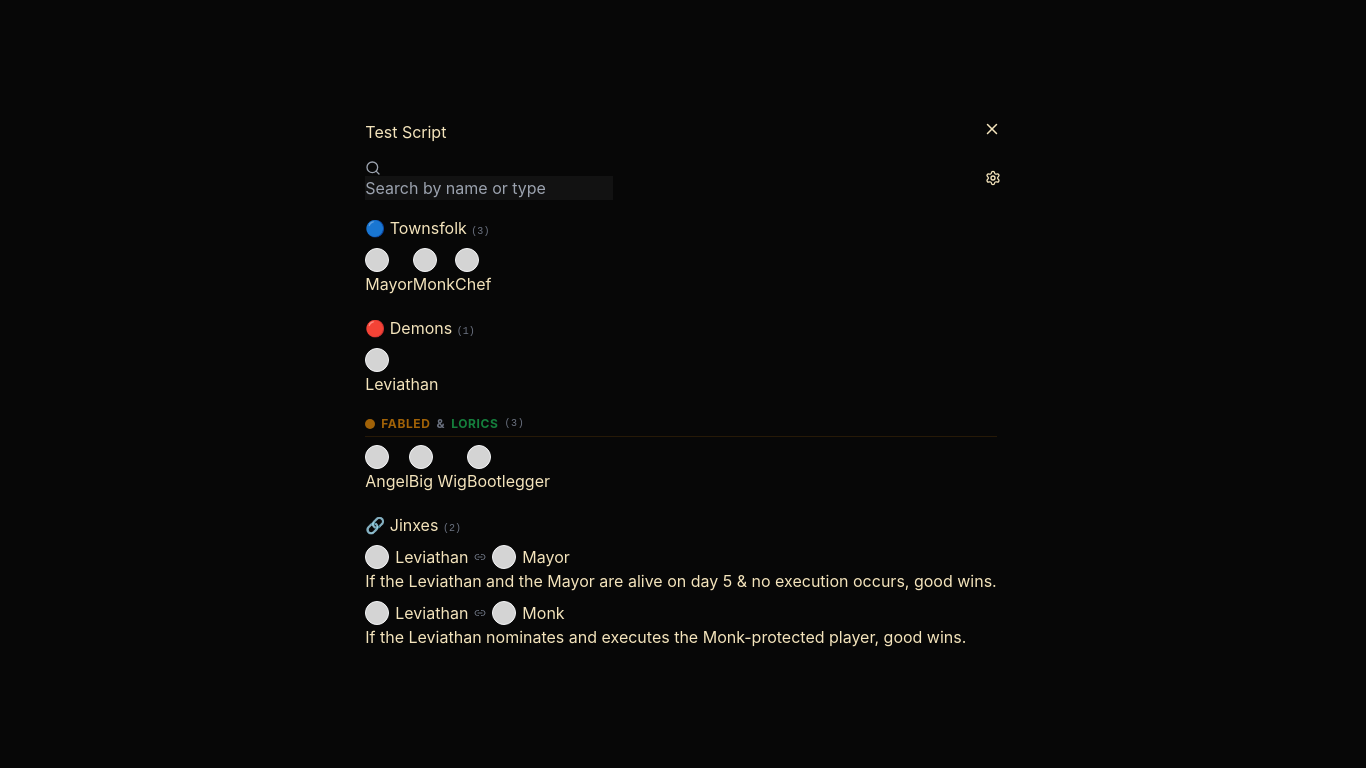
Test: ScriptCharactersModal Fabled and Lorics › searches Fabled and Lorics by name and type without incorrectly showing the empty state
Type "angel" into the field with placeholder "Search by name or type" at [489, 188], box [365, 176, 613, 200]
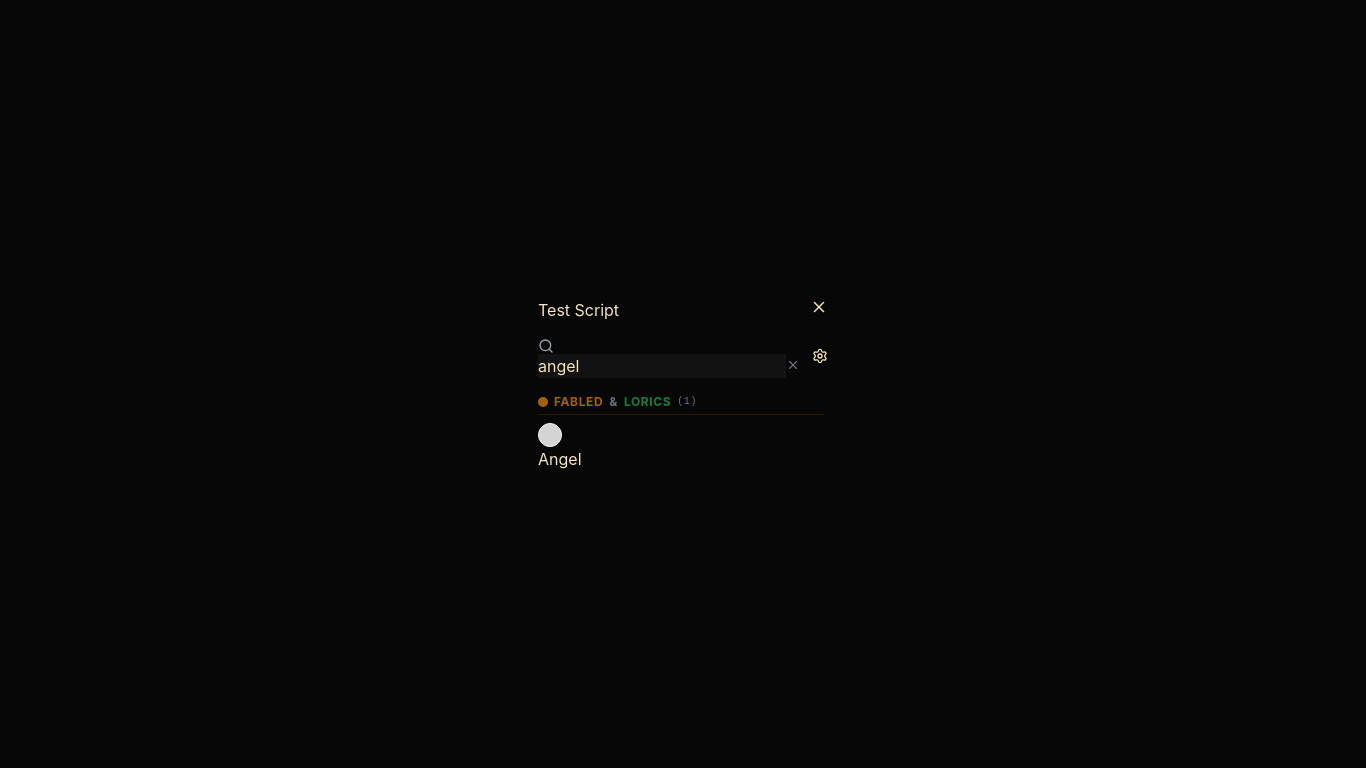
Check: the text "Angel" is shown, box [538, 448, 582, 468]
Check: the button "Bootlegger" is gone
Replace the text in the field with placeholder "Search by name or type" with "loric" at [662, 366], box [538, 354, 786, 378]
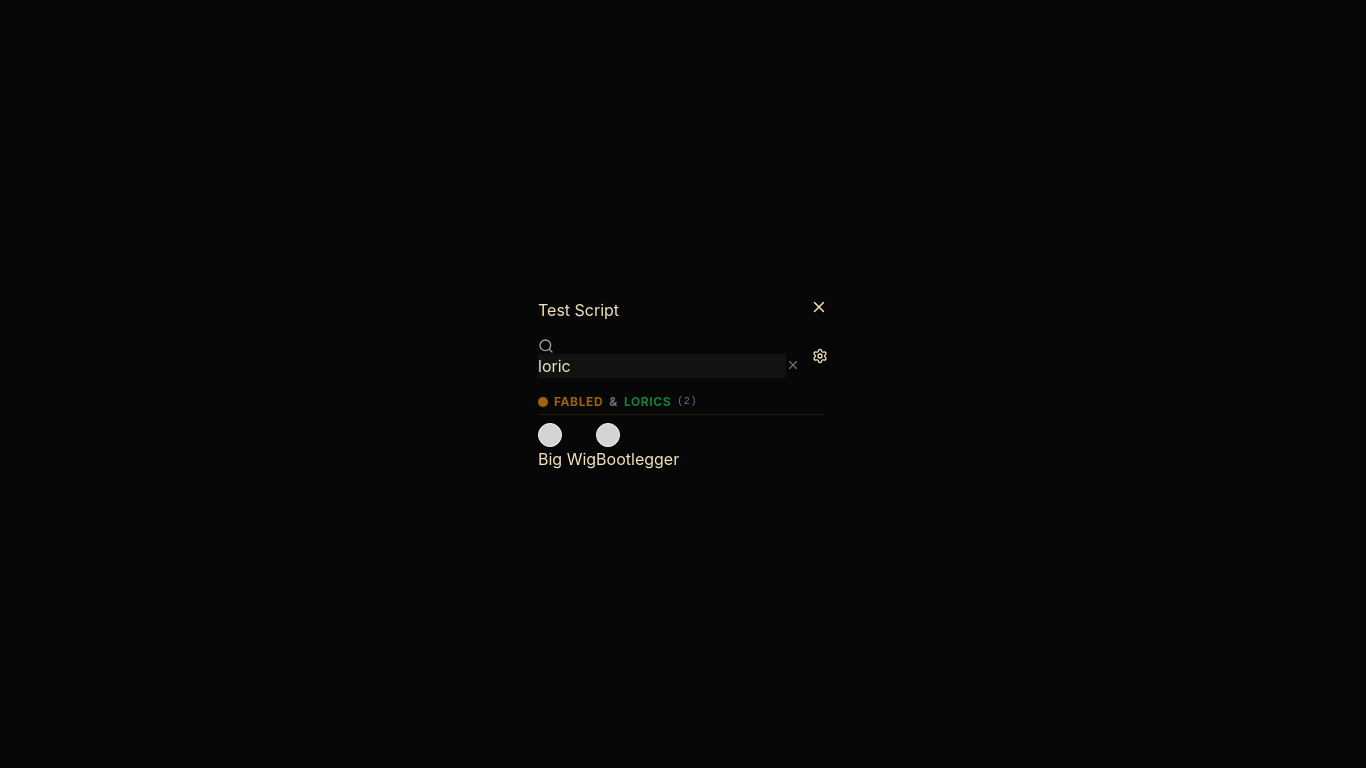
Check: the element showing "Fabled & Lorics (2) Big Wig Bootlegger" is shown, box [538, 394, 824, 470]
Check: the text "Bootlegger" is shown, box [596, 448, 679, 468]
Replace the text in the field with placeholder "Search by name or type" with "no such character" at [662, 366], box [538, 354, 786, 378]
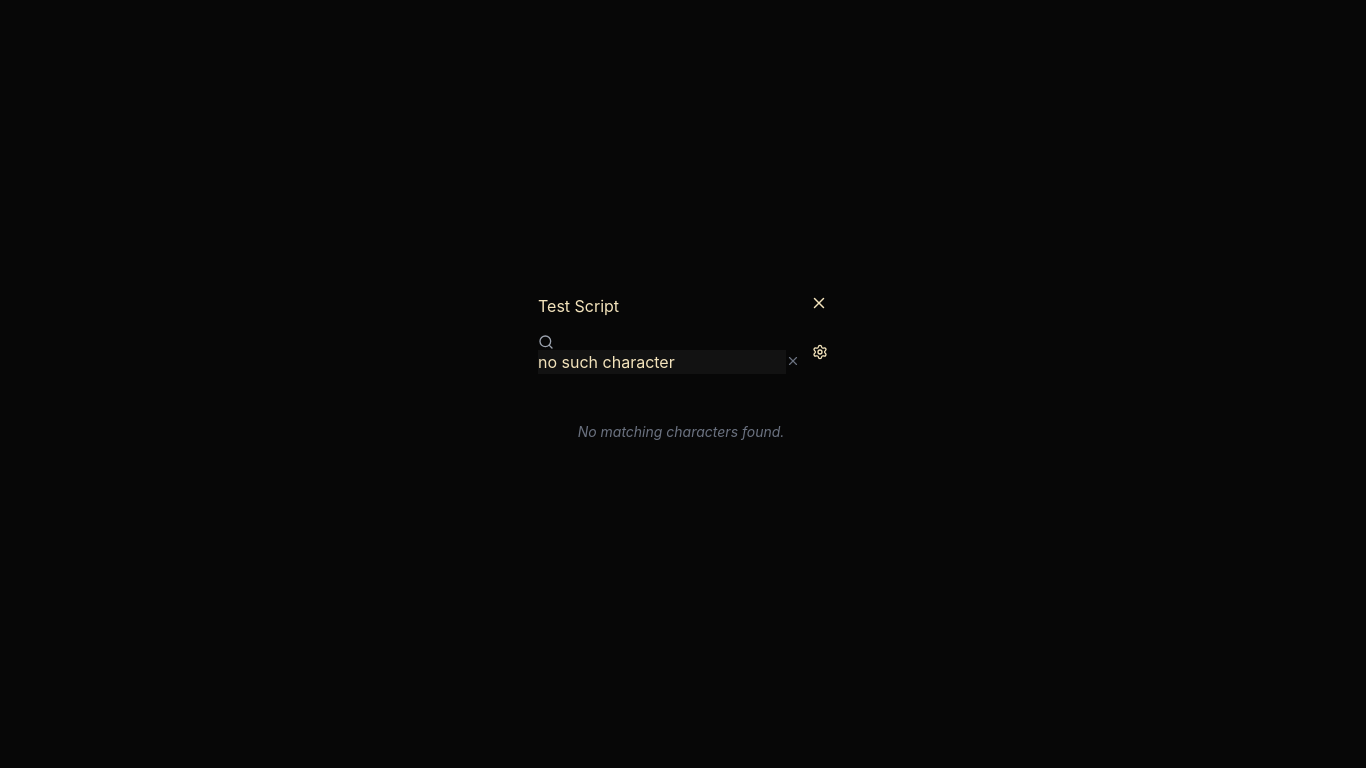
Check: the text "No matching characters found." is shown, box [578, 423, 784, 440]
